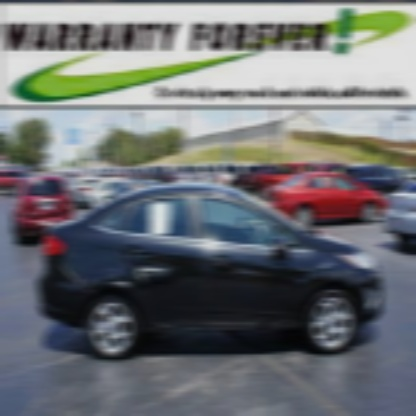Vehicle: (39, 186, 384, 361)
